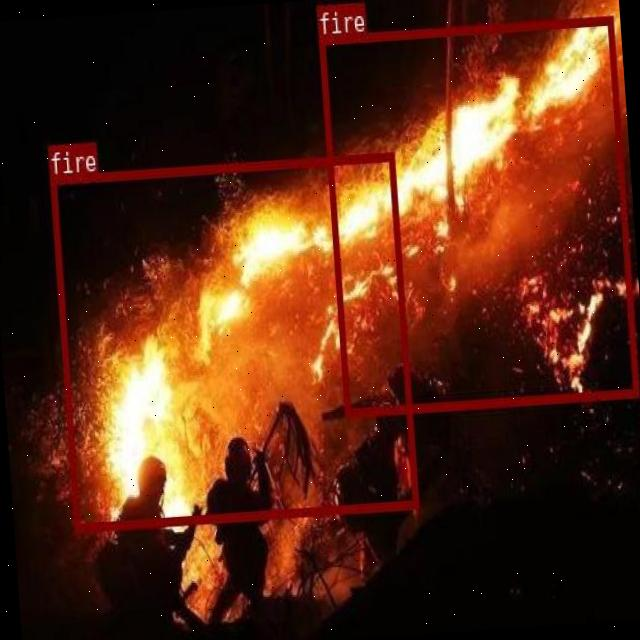fire: (49, 152, 418, 530), (318, 14, 638, 414)
